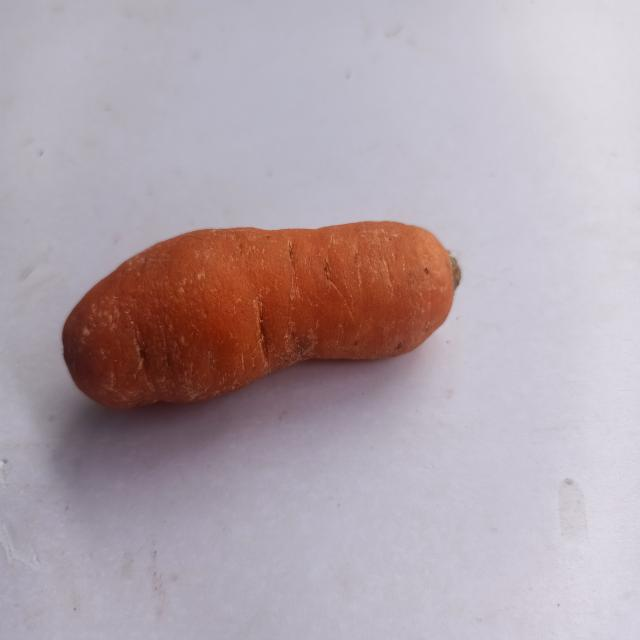Carrot: (57, 204, 479, 454)
